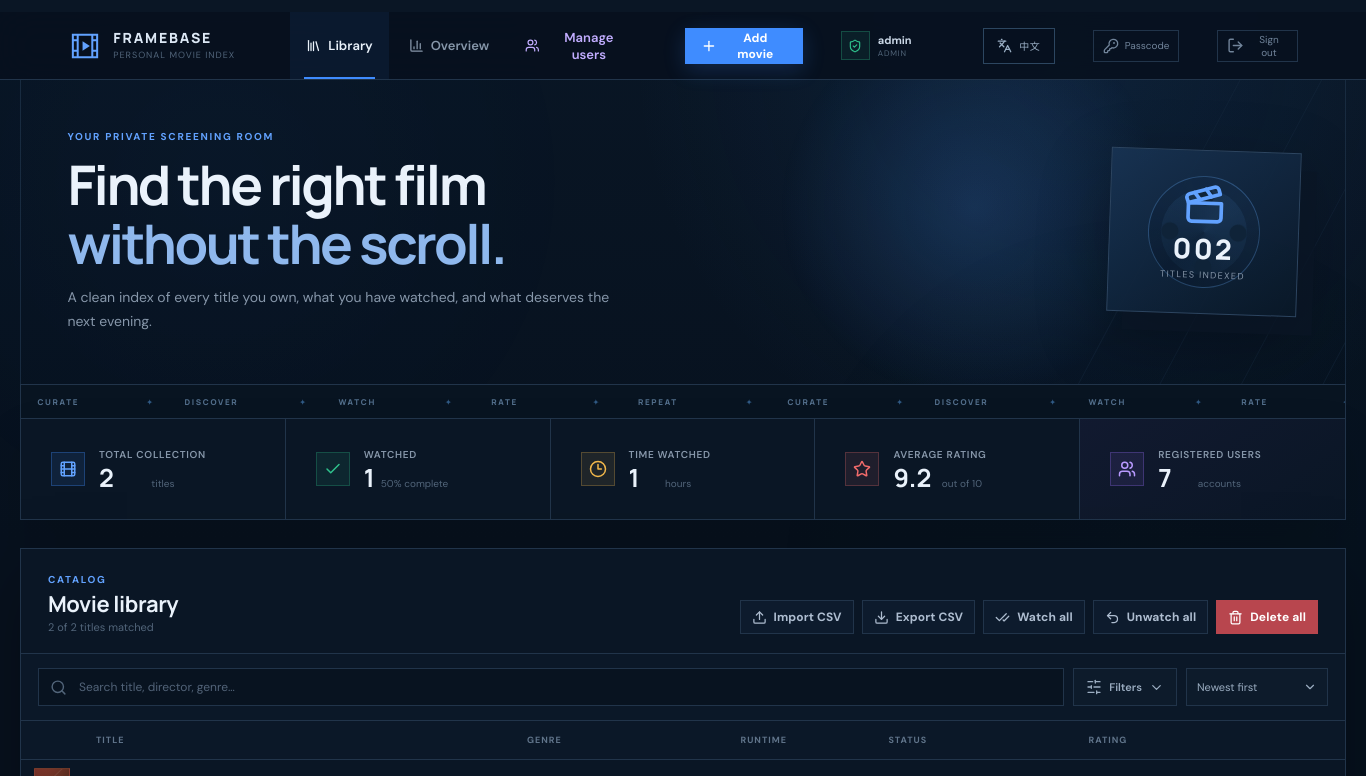
Test: App › marks every movie in the current library as watched with one batch request
This screenshot has width=1366, height=776.
Step 1. Click the button "Watch all" → (1034, 617), box [983,600,1085,634]
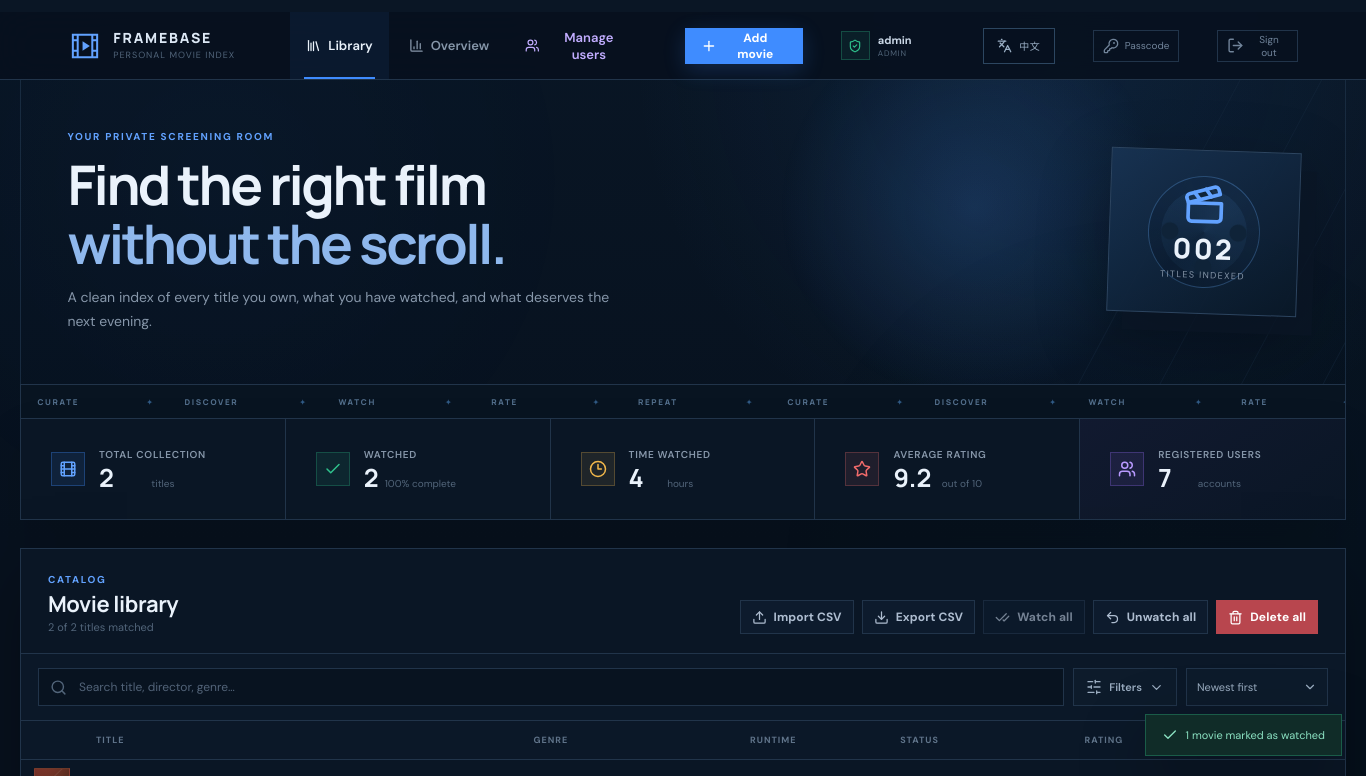
Result: the text "1 movie marked as watched" is shown at [1144,714,1342,756]
Result: the text "100% complete" is shown at [385,477,456,490]
